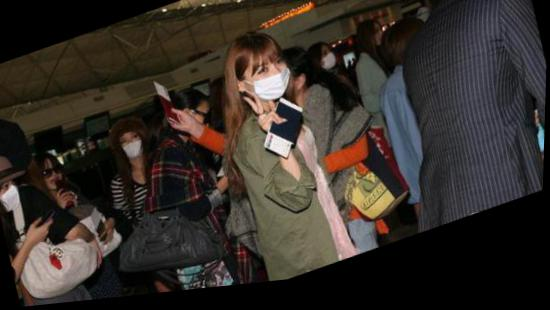NONE: (42, 162, 70, 195), (371, 32, 389, 56)
OK: (1, 179, 27, 218), (120, 133, 148, 164), (318, 53, 341, 80)
WRONG: (243, 52, 300, 112)
